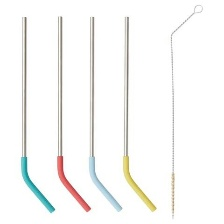drinking_straw: (116, 12, 164, 215), (15, 13, 57, 217), (53, 14, 94, 214), (86, 13, 124, 216)
